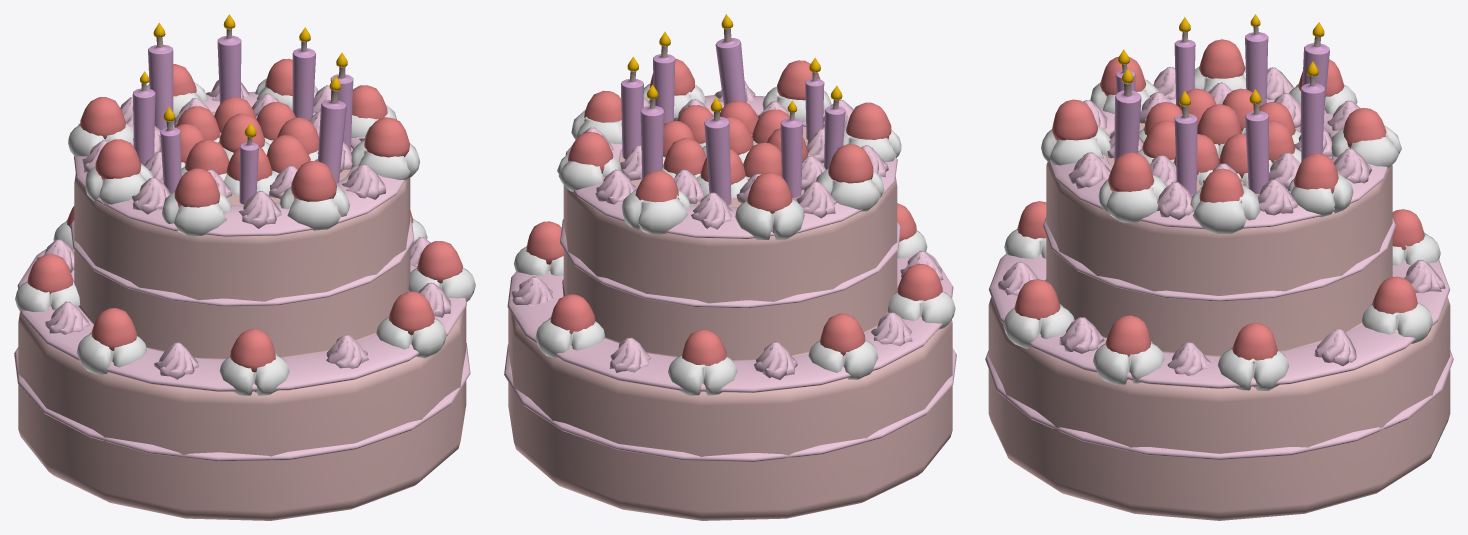
File: strawberry_cake.fbx
3 views of the same model, side by side, from view 1: azimuth 30°, elevation 25°; view 2: azimuth 150°, elevation 25°; view 3: azimuth 270°, elevation 25° (orthographic). The views are drawn at different scales.
Visible parts, largest first — view 1: pCylinder67, pTorus5, pTorus6, pTorus9, pTorus8, pCylinder76, pCylinder83, pCylinder99, pCylinder75, pCylinder95, pCylinder84, pCylinder82 (+41 smaller); view 2: pCylinder67, pTorus5, pTorus6, pTorus9, pTorus8, pCylinder71, pCylinder95, pCylinder70, pCylinder78, pCylinder85, pCylinder99, pCylinder79 (+46 smaller); view 3: pCylinder67, pTorus5, pTorus9, pTorus6, pTorus8, pCylinder73, pCylinder80, pCylinder81, pCylinder74, pCylinder97, pCylinder82, pCylinder79 (+50 smaller).
Boxes of the visible parts, box(x1,y1,x2,y2) form: pCylinder67: box(18, 112, 466, 520); pTorus5: box(17, 249, 466, 391); pTorus6: box(74, 91, 405, 236); pTorus9: box(14, 343, 470, 461); pTorus8: box(70, 216, 414, 306); pCylinder76: box(162, 191, 231, 236); pCylinder83: box(219, 353, 289, 395); pCylinder99: box(318, 90, 346, 183); pCylinder75: box(279, 186, 349, 230); pCylinder95: box(148, 37, 173, 130); pCylinder84: box(76, 332, 146, 374); pCylinder82: box(376, 316, 446, 358); pCylinder67: box(508, 115, 952, 520); pTorus5: box(507, 251, 953, 392); pTorus6: box(565, 95, 897, 238); pTorus9: box(504, 344, 956, 461); pTorus8: box(560, 219, 900, 308); pCylinder71: box(621, 189, 690, 235); pCylinder95: box(704, 111, 731, 205); pCylinder70: box(735, 199, 804, 239); pCylinder78: box(668, 354, 737, 395); pCylinder85: box(808, 339, 878, 379); pCylinder99: box(715, 28, 746, 105); pCylinder79: box(535, 317, 604, 358); pCylinder67: box(988, 122, 1450, 520); pTorus5: box(988, 253, 1450, 388); pTorus9: box(985, 350, 1453, 459); pTorus6: box(1048, 95, 1388, 229); pTorus8: box(1043, 217, 1395, 301); pCylinder73: box(1190, 185, 1260, 233); pCylinder80: box(1217, 347, 1289, 390); pCylinder81: box(1093, 341, 1164, 384); pCylinder74: box(1098, 175, 1166, 223); pCylinder97: box(1245, 103, 1268, 193); pCylinder82: box(1003, 304, 1074, 348); pCylinder79: box(1362, 301, 1432, 343).
Bounding box in the file's own units: 6.09 × 5.6 × 6.09.
